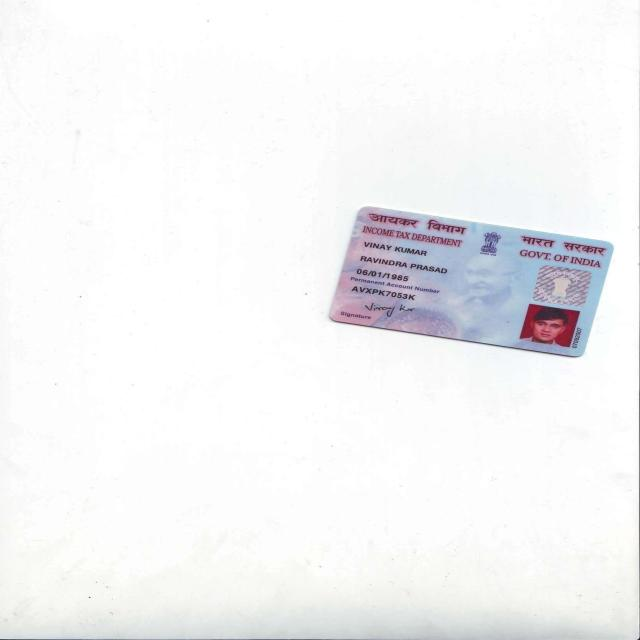pan_card: (328, 204, 617, 358)
